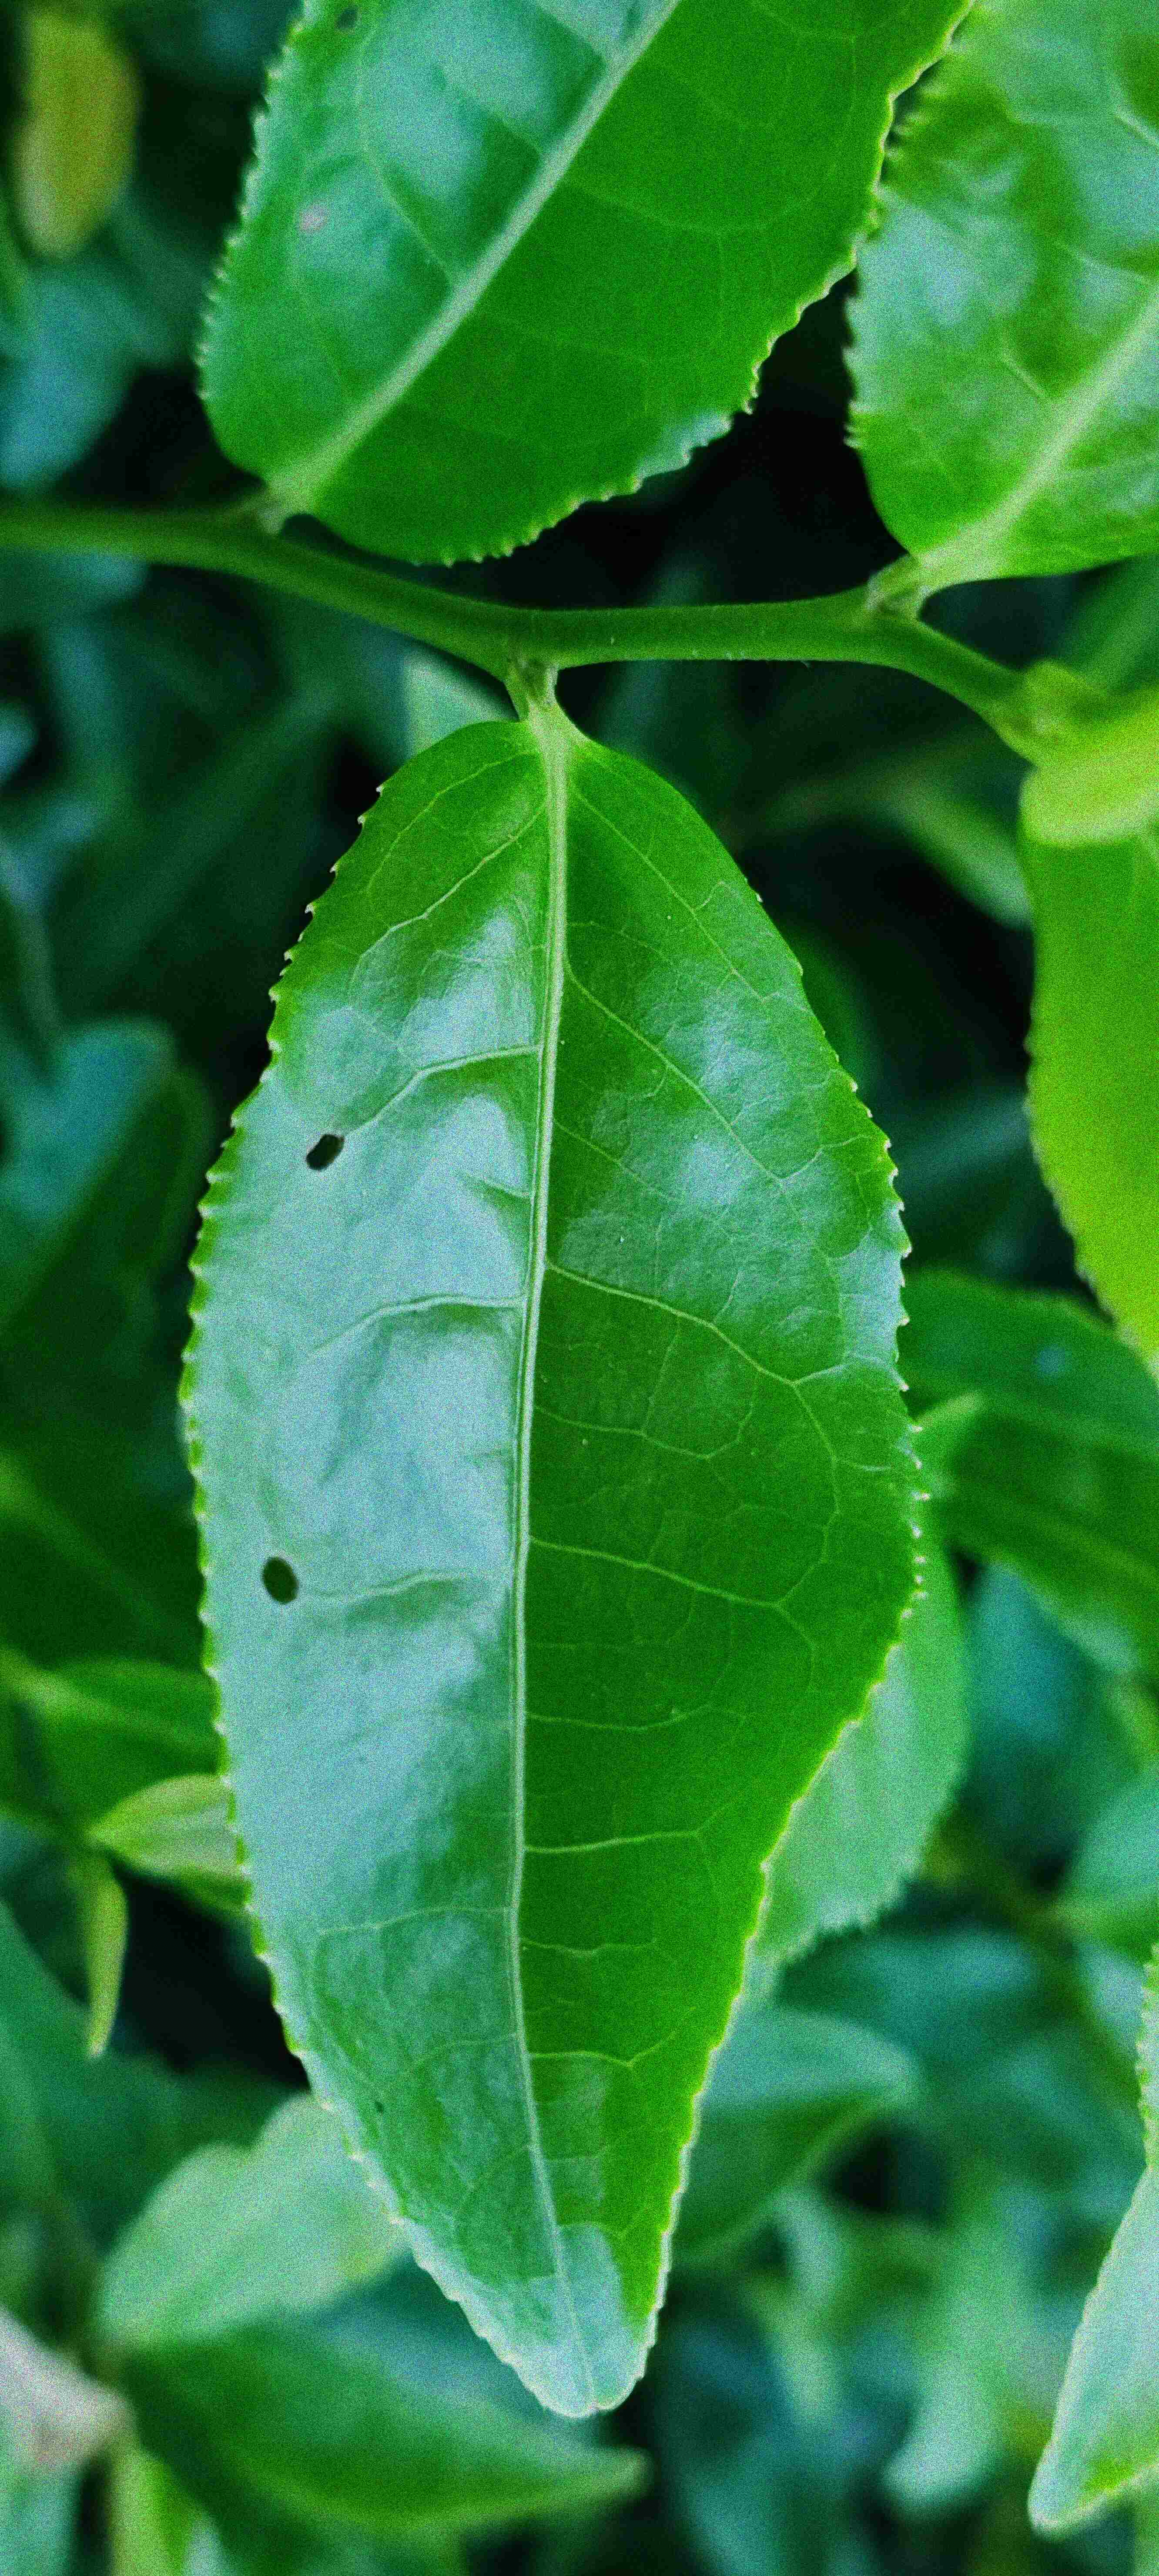chihuo_high: (177, 723, 932, 2428)
healthy: (197, 13, 973, 575), (837, 11, 1154, 598)
